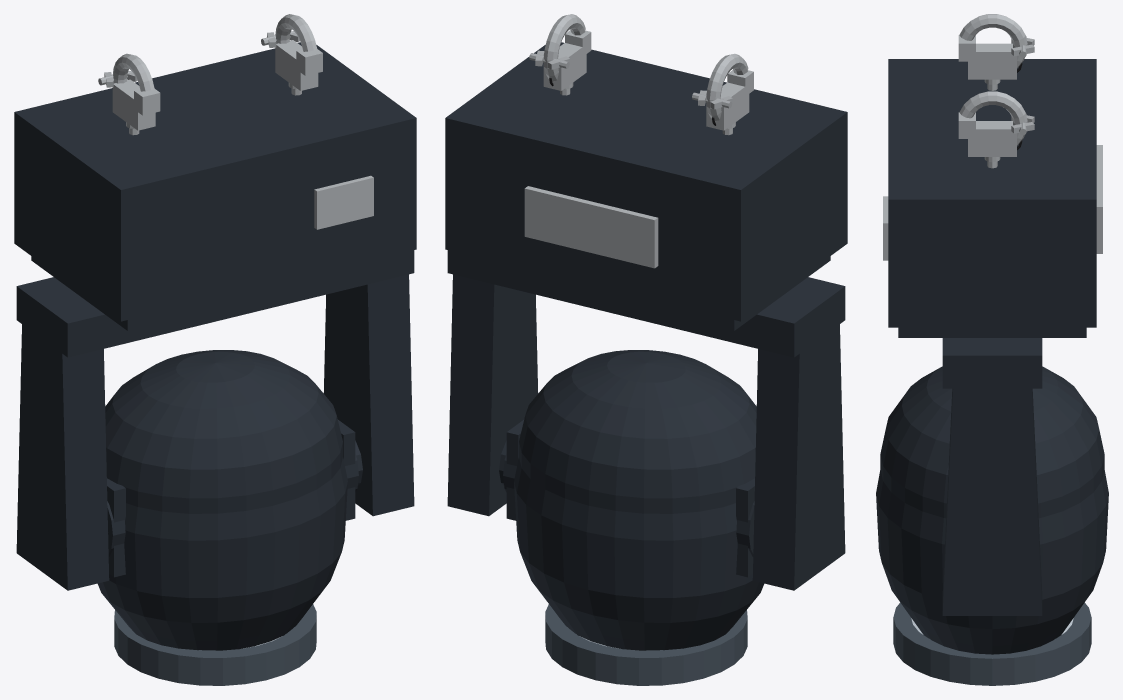
The model's file is moving-head-wash-large.glb.
The picture shows the model from 3 angles, left to right: view 1: azimuth 30°, elevation 25°; view 2: azimuth 150°, elevation 25°; view 3: azimuth 270°, elevation 25°; orthographic projection. The views are drawn at different scales.
Parts seen in each view (by area): view 1: moving-base, head-body, yoke-left, yoke-right, yoke-crossbar, lens-ring, truss-coupler, head-cheeks, base-display; view 2: moving-base, head-body, yoke-left, yoke-right, yoke-crossbar, lens-ring, base-connectors, truss-coupler, head-cheeks, truss-coupler-bolt; view 3: moving-base, head-body, yoke-right, lens-ring, truss-coupler, yoke-crossbar, base-connectors, truss-coupler-bolt, base-display.
Boxes of the visible parts, box(x1,y1,x2,y2) form: moving-base: box(14, 42, 416, 330); head-body: box(97, 350, 347, 650); yoke-left: box(16, 324, 109, 590); yoke-right: box(323, 274, 414, 516); yoke-crossbar: box(16, 250, 414, 357); lens-ring: box(114, 604, 316, 685); truss-coupler: box(112, 14, 322, 135); head-cheeks: box(107, 419, 358, 577); base-display: box(314, 175, 373, 229); moving-base: box(445, 42, 847, 330); head-body: box(514, 350, 764, 650); yoke-left: box(752, 324, 845, 590); yoke-right: box(447, 274, 538, 516); yoke-crossbar: box(447, 250, 845, 357); lens-ring: box(545, 604, 747, 685); base-connectors: box(524, 186, 658, 268); truss-coupler: box(543, 14, 753, 135); head-cheeks: box(503, 419, 754, 577); truss-coupler-bolt: box(529, 50, 732, 109); moving-base: box(888, 59, 1096, 337); head-body: box(876, 366, 1108, 654); yoke-right: box(942, 388, 1042, 615); lens-ring: box(893, 602, 1091, 685); truss-coupler: box(958, 14, 1027, 168); yoke-crossbar: box(942, 338, 1042, 388); base-connectors: box(1096, 145, 1102, 253); truss-coupler-bolt: box(1011, 36, 1034, 135); base-display: box(883, 196, 888, 260).
Bounding box in the file's own units: 0.586 × 0.98 × 0.35.
